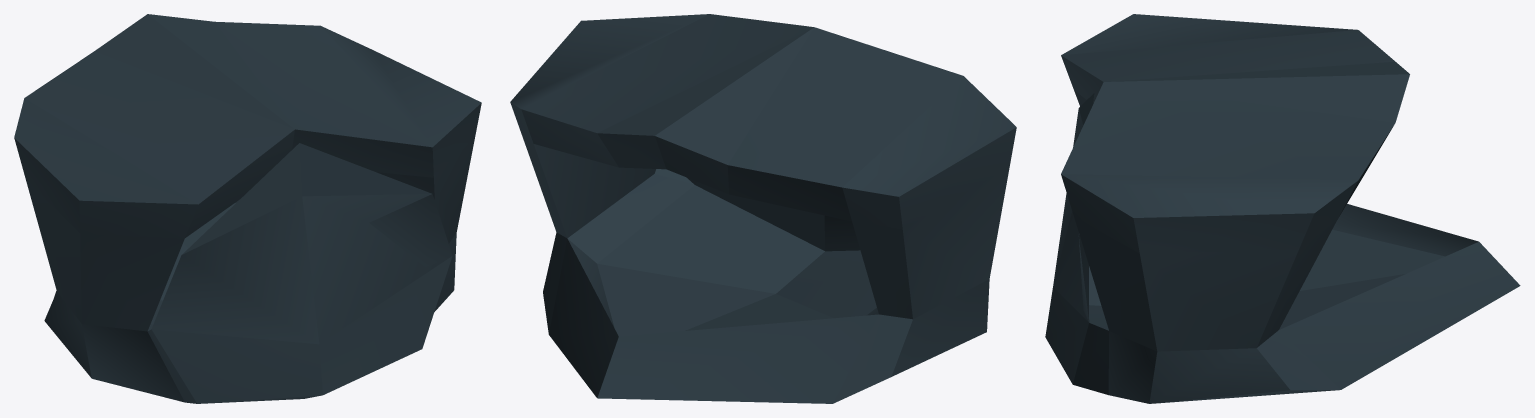
Rendered from mech0cockpitorigin.obj.
The picture shows the model from 3 angles, left to right: view 1: azimuth 30°, elevation 25°; view 2: azimuth 150°, elevation 25°; view 3: azimuth 270°, elevation 25°; orthographic projection. The views are drawn at different scales.
Parts seen in each view (by area): view 1: s.0744; view 2: s.0744; view 3: s.0744.
Part boxes in pixels (left/top/right/bottom): s.0744: left=14, top=14, right=481, bottom=403; s.0744: left=510, top=14, right=1016, bottom=403; s.0744: left=1045, top=14, right=1520, bottom=403.
Size of the model in its own units: 2.41 by 1.55 by 2.37.
